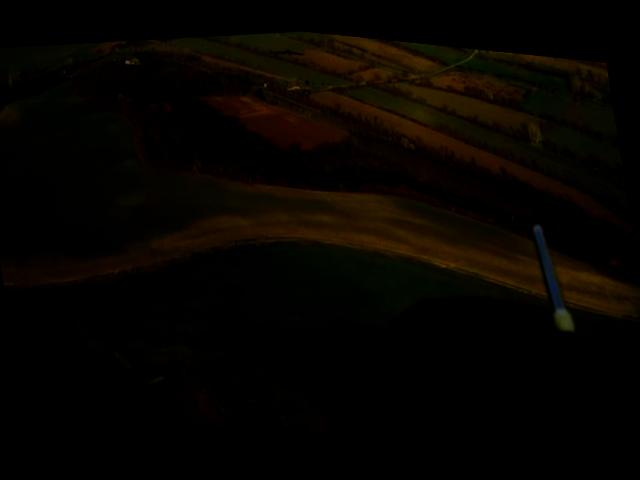iha: (270, 39, 304, 53)
